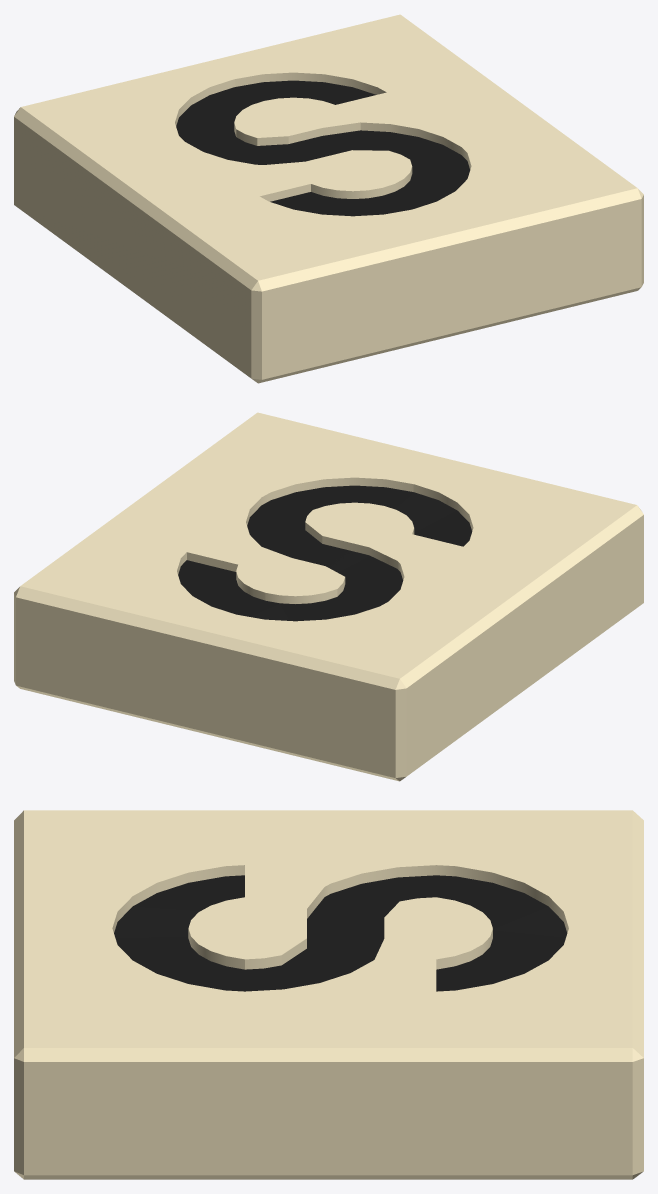
The model's file is Boardgame_Piece_Anagram_Letter_S_01.fbx.
The picture shows the model from 3 angles, top to bottom: view 1: azimuth 30°, elevation 25°; view 2: azimuth 150°, elevation 25°; view 3: azimuth 270°, elevation 25°; orthographic projection. The views are drawn at different scales.
Parts seen in each view (by area): view 1: Boardgame_Piece_Anagram_Letter_S_01; view 2: Boardgame_Piece_Anagram_Letter_S_01; view 3: Boardgame_Piece_Anagram_Letter_S_01.
Boxes of the visible parts, left/top/right/bottom form: Boardgame_Piece_Anagram_Letter_S_01: left=14, top=14, right=643, bottom=383; Boardgame_Piece_Anagram_Letter_S_01: left=14, top=412, right=643, bottom=781; Boardgame_Piece_Anagram_Letter_S_01: left=14, top=810, right=643, bottom=1179.
Bounding box in the file's own units: 39.37 × 9.84 × 42.65.
